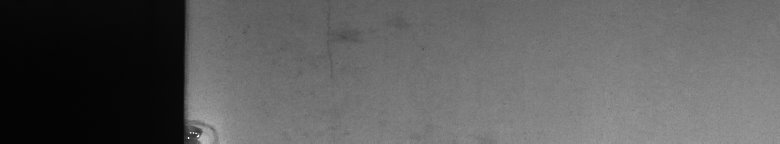hb: (196, 114, 221, 136)
